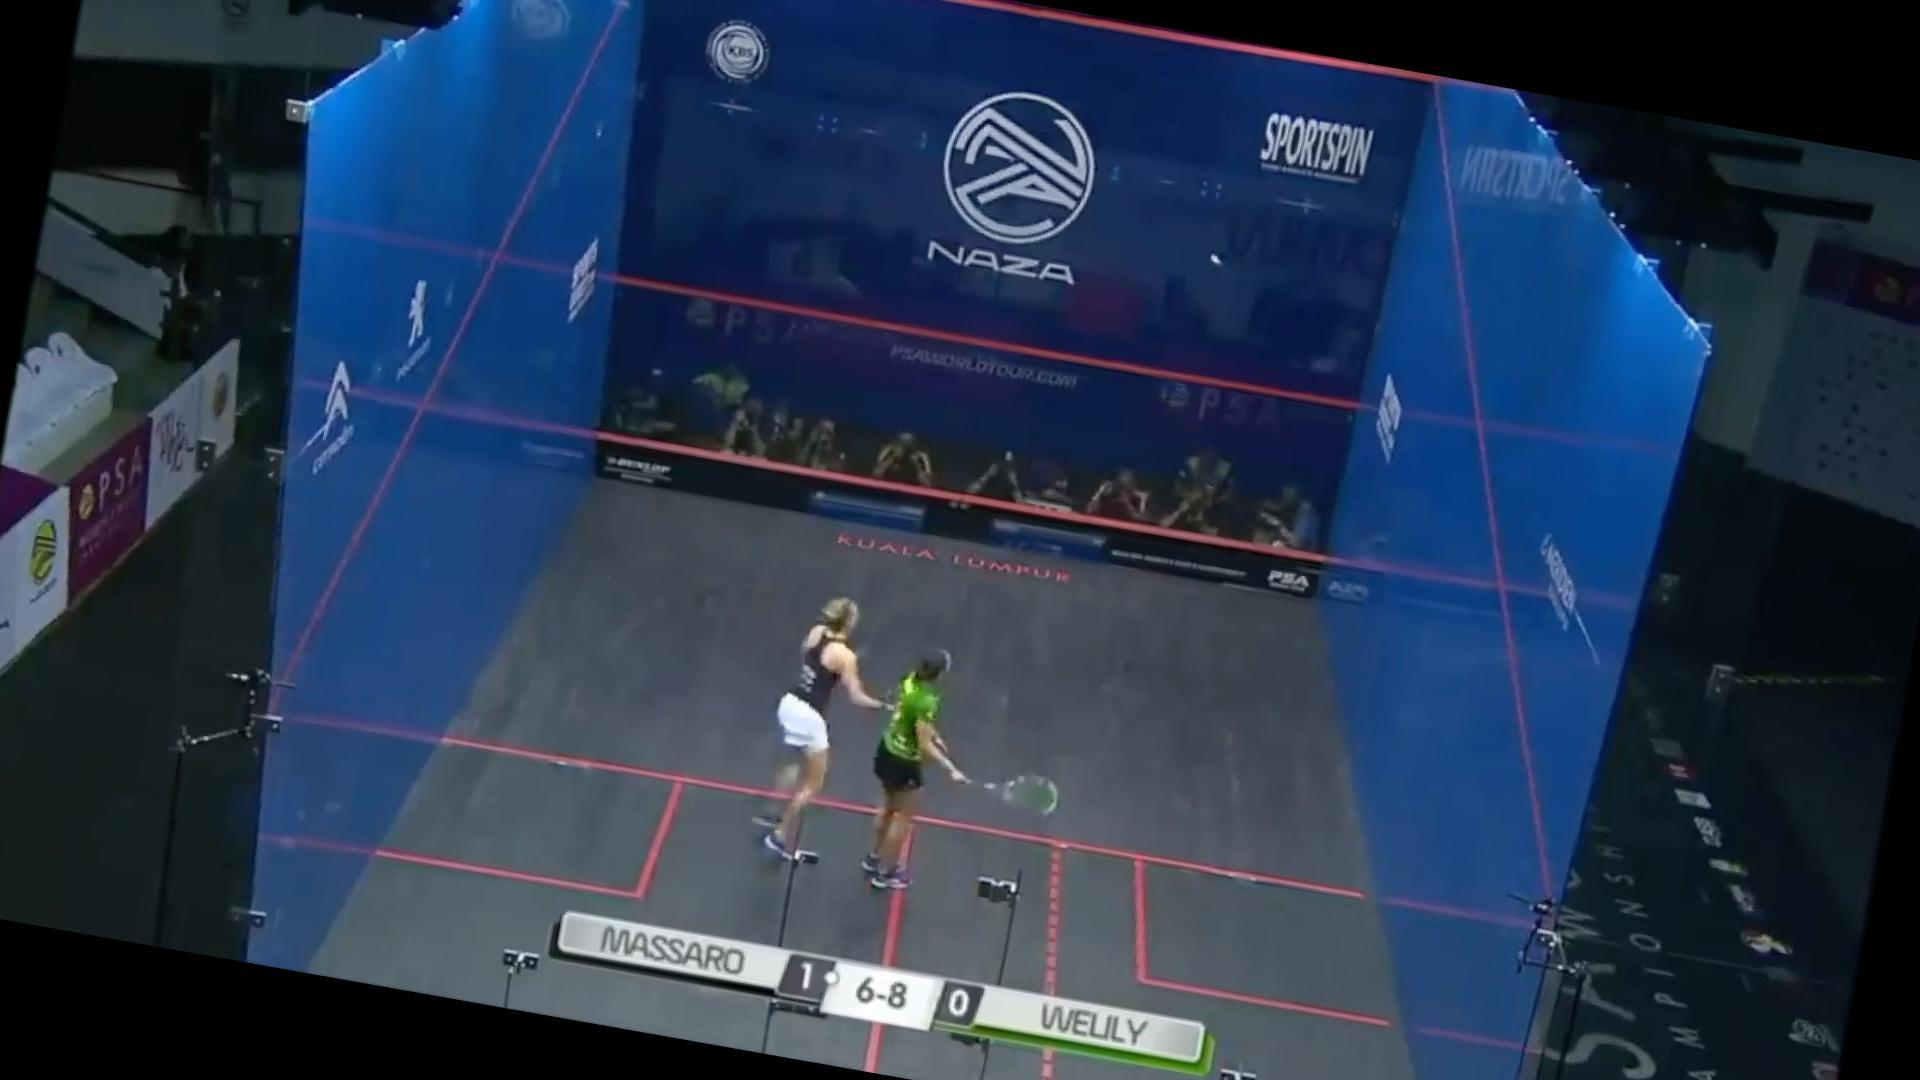Squash-Ball: (1188, 236, 1241, 289)
